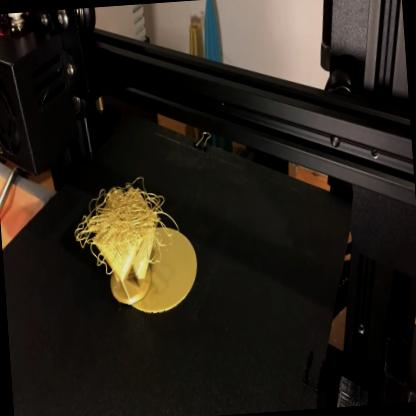fail: (70, 172, 185, 281)
